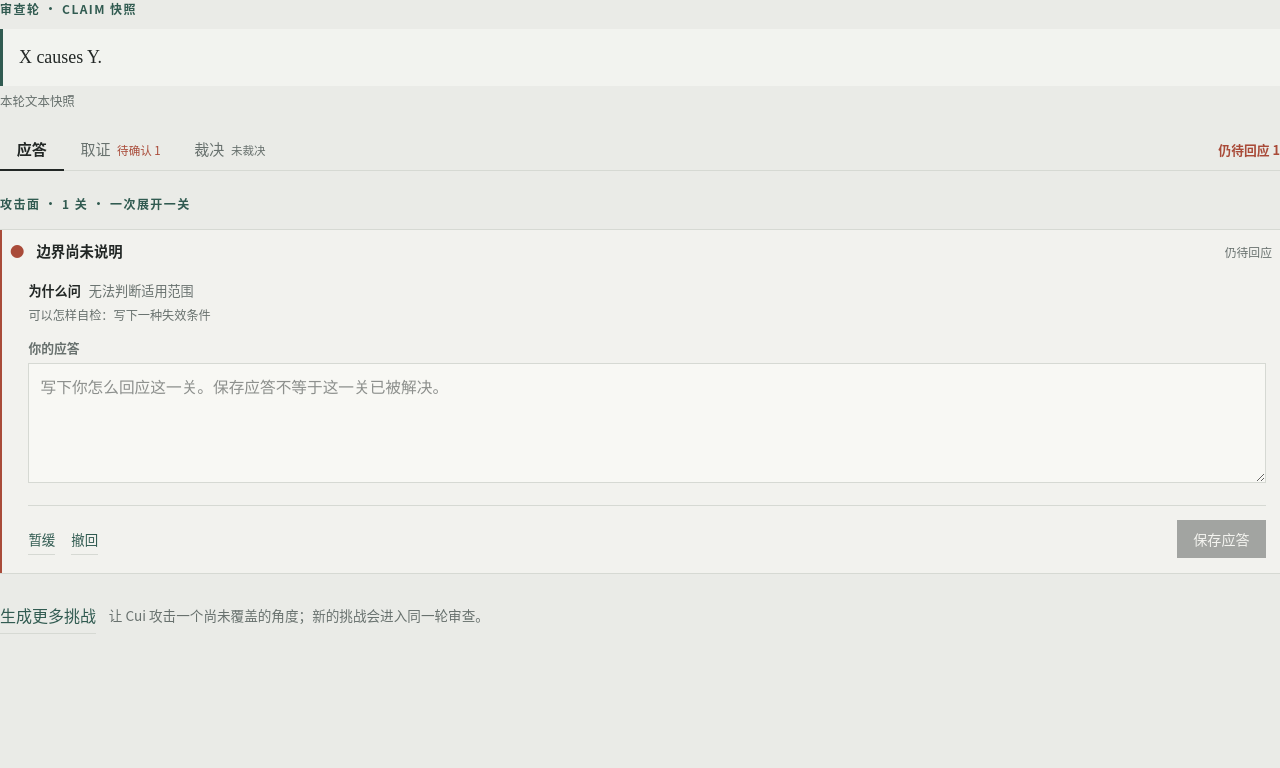
ReviewRoundDesk evidence surface › confirms a contradiction and shows the fact receipt
What coordinates should you click on to do the following:
click the tab "取证 待确认 1"
I would click on:
 (121, 150)
Its box is [64, 128, 178, 171].
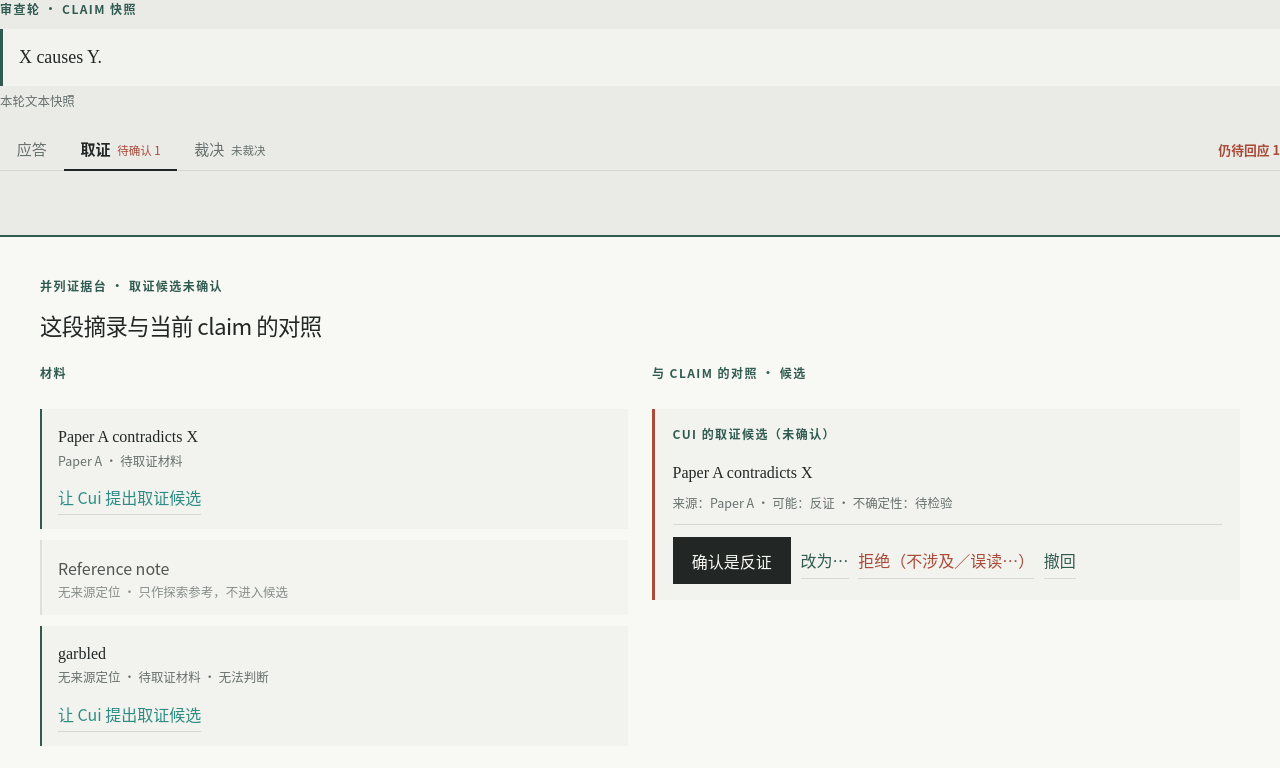
Expected: the 1st text "Paper A contradicts X" is shown, [58, 428, 198, 445]
What coordinates should you click on to do the following:
click the button "确认是反证"
I would click on:
 (732, 561)
Its box is [673, 537, 791, 584].
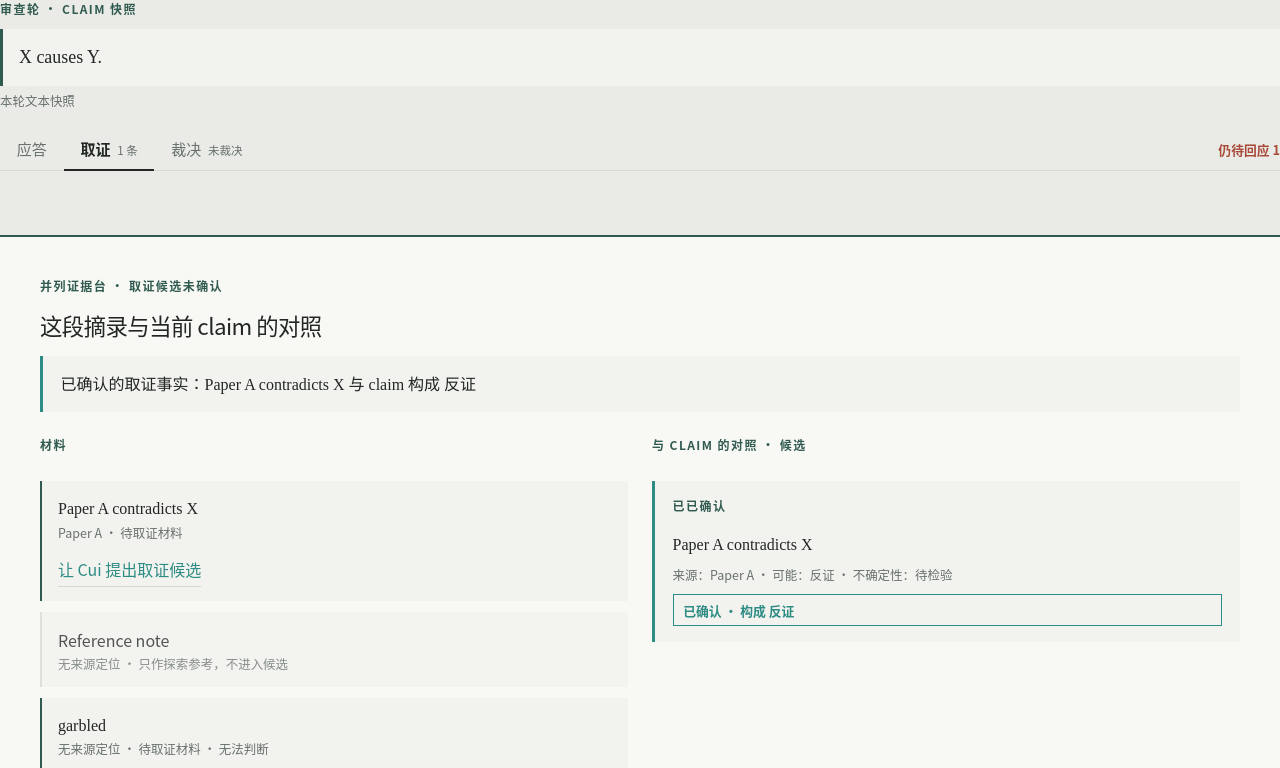
Expected: the text "已确认的取证事实：Paper A contradicts X 与 claim 构成 反证" is shown, [40, 356, 1240, 412]
Expected: the text "已确认 · 构成 反证" is shown, [673, 594, 1222, 626]
